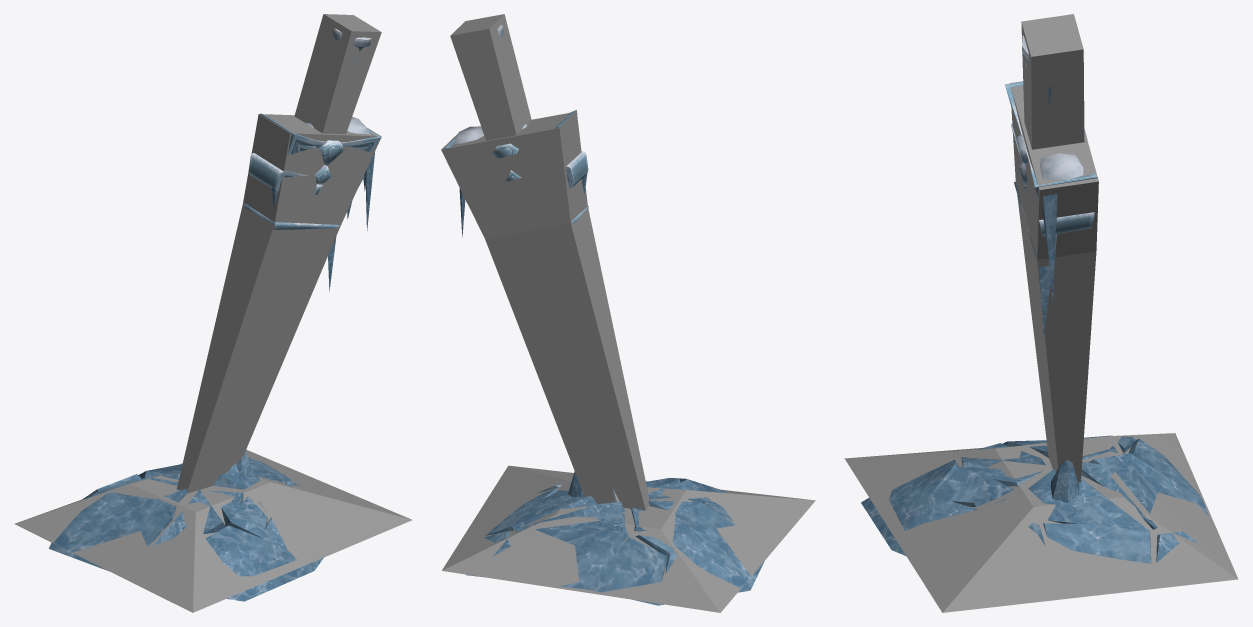
The model's file is Scene_Build_TianShan_XieJian_1.FBX.
3 views of the same model, side by side, from view 1: azimuth 30°, elevation 25°; view 2: azimuth 150°, elevation 25°; view 3: azimuth 270°, elevation 25° (orthographic). The views are drawn at different scales.
Parts seen in each view (by area): view 1: Scene_Build_TianShan_XieJian_1_Xzm, Scene_Build_TianShan_XieJian_1; view 2: Scene_Build_TianShan_XieJian_1_Xzm, Scene_Build_TianShan_XieJian_1; view 3: Scene_Build_TianShan_XieJian_1_Xzm, Scene_Build_TianShan_XieJian_1.
Part boxes in pixels (x1=…): Scene_Build_TianShan_XieJian_1_Xzm: x1=14, y1=14, x2=412, y2=612; Scene_Build_TianShan_XieJian_1: x1=49, y1=28, x2=381, y2=601; Scene_Build_TianShan_XieJian_1_Xzm: x1=441, y1=14, x2=815, y2=612; Scene_Build_TianShan_XieJian_1: x1=444, y1=25, x2=764, y2=605; Scene_Build_TianShan_XieJian_1_Xzm: x1=844, y1=14, x2=1238, y2=612; Scene_Build_TianShan_XieJian_1: x1=861, y1=35, x2=1208, y2=563.
Bounding box in the file's own units: 3842 × 5682 × 3454.
